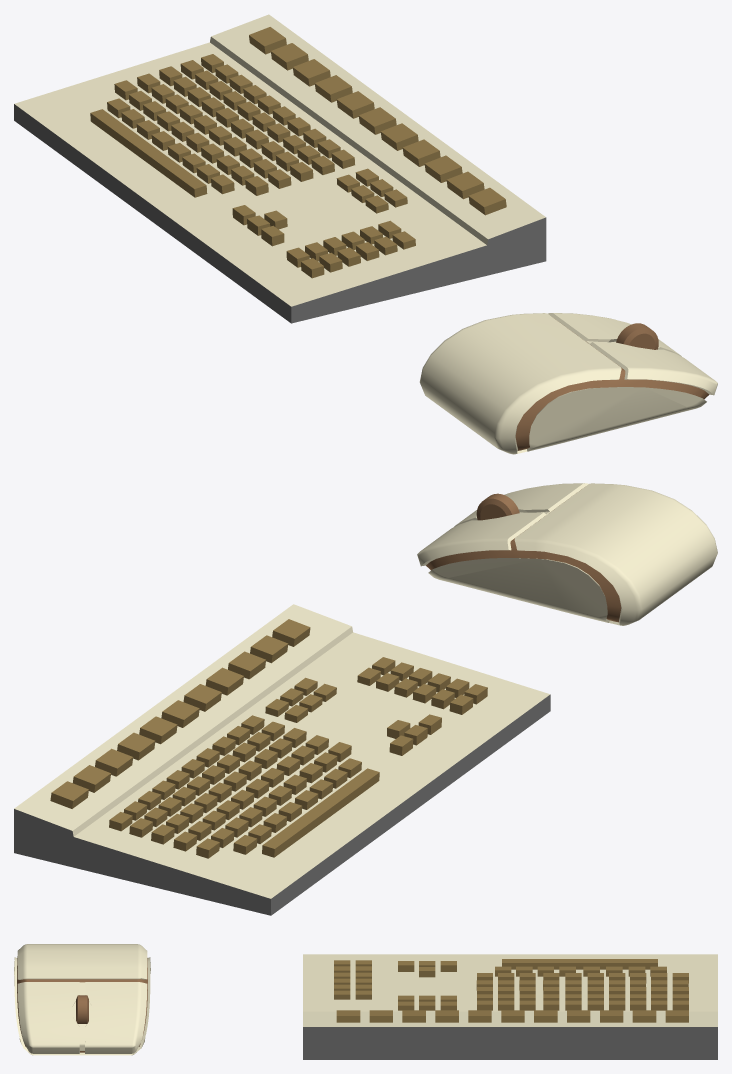
Rendered from Keyboard&Mouse_tier8.fbx.
3 renders of one model, top to bottom at view 1: azimuth 30°, elevation 25°; view 2: azimuth 150°, elevation 25°; view 3: azimuth 270°, elevation 25°, orthographic. The views are drawn at different scales.
Visible parts, largest first — view 1: Cube, Cylinder, Cube.003, Cube.008, Cube.001, Cube.007, Cube.006, Cube.005, Cube.004, Cylinder.001; view 2: Cube, Cylinder, Cube.003, Cube.008, Cube.001, Cube.007, Cube.006, Cube.004, Cube.005, Cylinder.001; view 3: Cube, Cylinder, Cube.003, Cube.008, Cube.001, Cube.007, Cube.006, Cube.004, Cylinder.001, Cube.005.
Boxes of the visible parts, x1,y1,x2,y2 form: Cube: (14,14,546,323); Cylinder: (419,313,717,454); Cube.003: (114,54,354,195); Cube.008: (249,27,506,215); Cube.001: (90,98,234,197); Cube.007: (286,220,415,278); Cube.006: (232,205,287,246); Cube.005: (336,174,388,213); Cube.004: (355,168,407,207); Cylinder.001: (616,323,658,349); Cube: (14,604,550,915); Cylinder: (417,483,717,625); Cube.003: (109,715,351,858); Cube.008: (50,619,310,808); Cube.001: (233,758,379,857); Cube.007: (357,657,487,714); Cube.006: (387,714,441,755); Cube.004: (265,677,317,716); Cube.005: (284,683,336,722); Cylinder.001: (476,493,519,520); Cube: (303,954,717,1059); Cylinder: (14,944,150,1055); Cube.003: (476,973,688,1010); Cube.008: (336,1010,688,1022); Cube.001: (495,959,666,976); Cube.007: (334,960,371,999); Cube.006: (398,961,456,977); Cube.004: (398,1001,456,1010); Cylinder.001: (76,995,88,1023); Cube.005: (398,995,456,1001).
Bounding box in the file's own units: 0.3689 × 0.0971 × 1.18.
